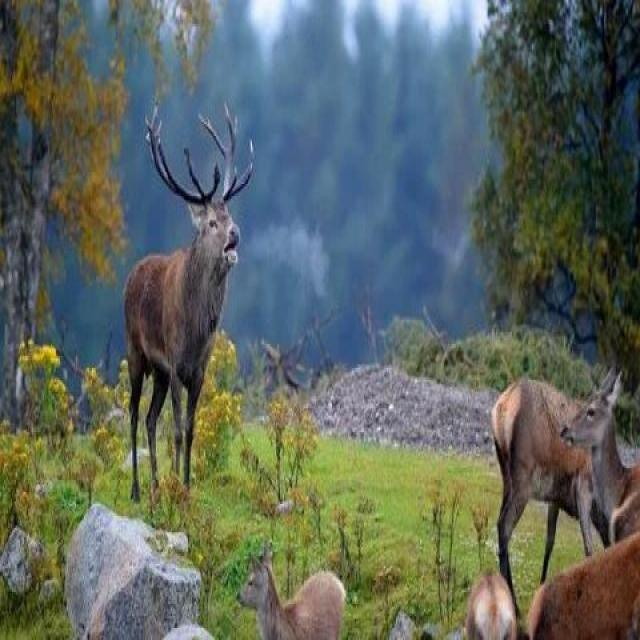deer: (82, 123, 268, 473), (480, 332, 588, 543)
